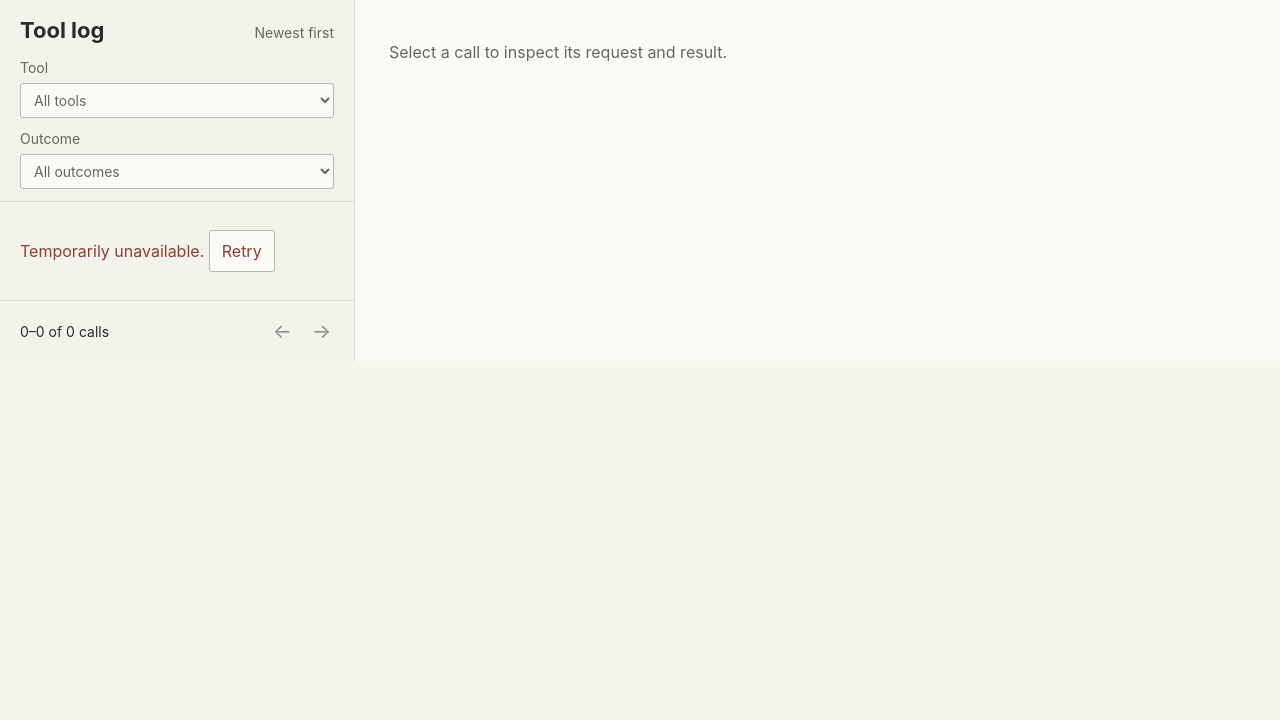
Test: tool log navigation › retries an initial failed list without losing a valid selection
Click the button "Retry": (242, 251) [209,230,275,272]
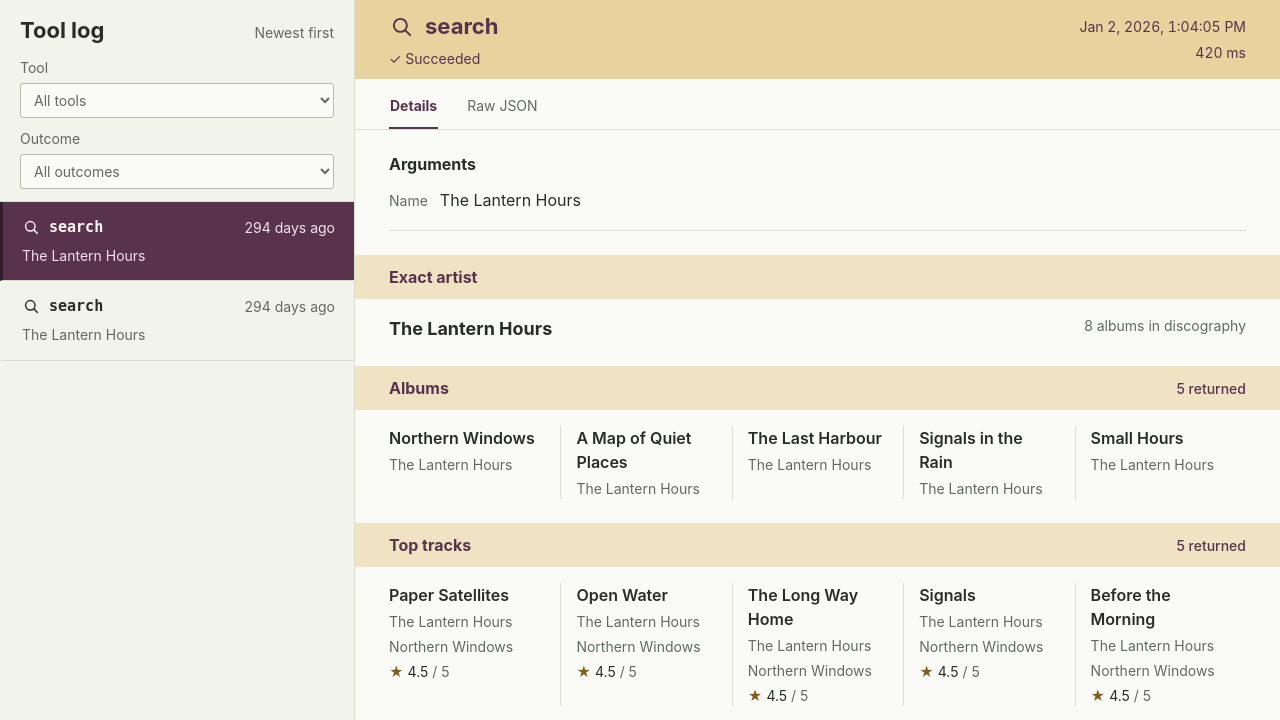
Result: the heading "search" is shown at [389,10,498,43]
